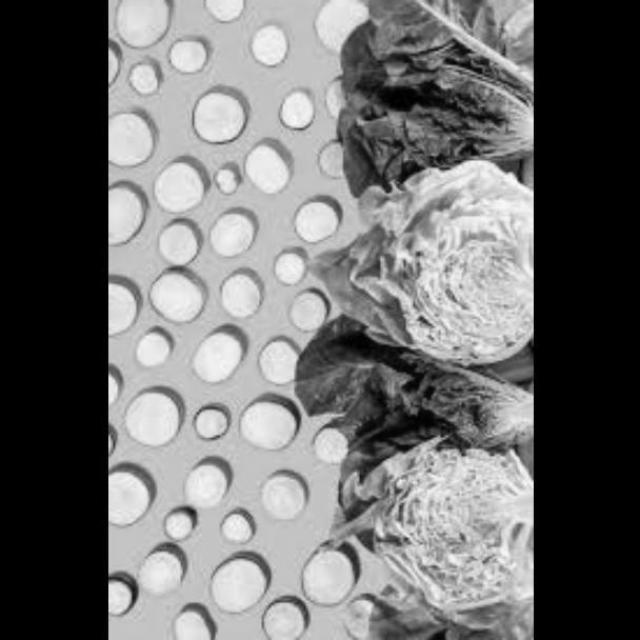salad: (310, 156, 532, 368), (314, 425, 532, 640), (332, 1, 532, 182), (314, 360, 532, 463)
